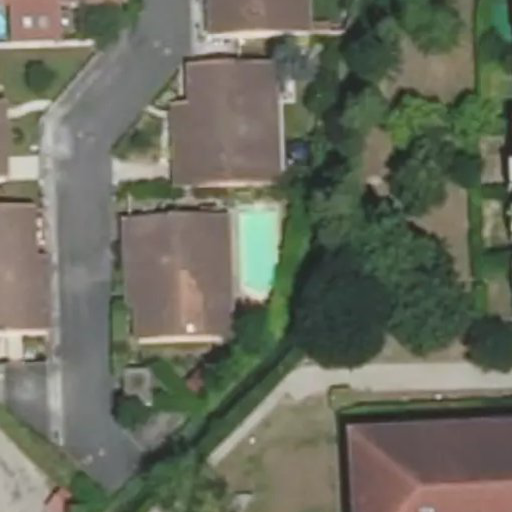pool: (237, 204, 275, 279)
